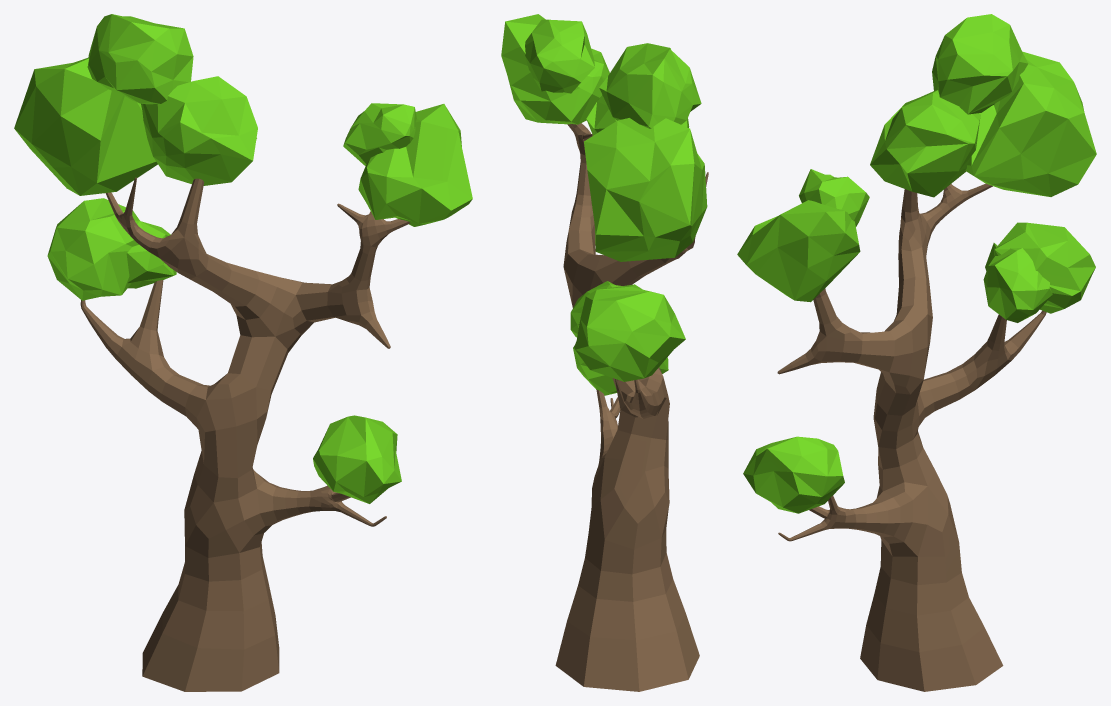
The model's file is Tree_test.fbx.
3 renders of one model, left to right at view 1: azimuth 30°, elevation 25°; view 2: azimuth 150°, elevation 25°; view 3: azimuth 270°, elevation 25°, orthographic. The views are drawn at different scales.
Visible parts, largest first — view 1: Tree_base, Tree_08.007, Tree_08.001, Tree_08.003, Tree_08.002, Tree_08.006, Branch1, Tree_08.005, Branch2, Branch3, Tree_08.004, Branch4 (+1 smaller); view 2: Tree_base, Tree_08.007, Tree_08.006, Tree_08.002, Tree_08.003, Tree_08.004, Branch2, Branch1, Branch3, Branch4, Tree_08.005, Tree_08.001 (+1 smaller); view 3: Tree_base, Tree_08.007, Tree_08.003, Tree_08.001, Tree_08.002, Tree_08.005, Tree_08.006, Branch1, Branch2, Branch3, Tree_08.008, Tree_08.004 (+1 smaller).
Boxes of the visible parts, bbox=[...] form: Tree_base: bbox=[142, 271, 313, 691]; Tree_08.007: bbox=[14, 57, 157, 195]; Tree_08.001: bbox=[141, 76, 257, 185]; Tree_08.003: bbox=[358, 104, 472, 226]; Tree_08.002: bbox=[87, 14, 193, 104]; Tree_08.006: bbox=[47, 198, 139, 300]; Branch1: bbox=[105, 177, 259, 306]; Tree_08.005: bbox=[313, 415, 401, 503]; Branch2: bbox=[296, 203, 410, 348]; Branch3: bbox=[80, 280, 203, 416]; Tree_08.004: bbox=[343, 103, 416, 165]; Branch4: bbox=[273, 485, 386, 526]; Tree_base: bbox=[555, 249, 699, 691]; Tree_08.007: bbox=[584, 118, 707, 261]; Tree_08.006: bbox=[574, 284, 685, 381]; Tree_08.002: bbox=[599, 43, 701, 128]; Tree_08.003: bbox=[501, 14, 609, 124]; Tree_08.004: bbox=[525, 19, 594, 93]; Branch2: bbox=[563, 123, 595, 265]; Branch1: bbox=[595, 172, 708, 285]; Branch3: bbox=[615, 378, 664, 418]; Branch4: bbox=[596, 389, 620, 461]; Tree_08.005: bbox=[573, 345, 668, 395]; Tree_08.001: bbox=[586, 95, 689, 135]; Tree_base: bbox=[860, 305, 1003, 691]; Tree_08.007: bbox=[965, 51, 1096, 196]; Tree_08.003: bbox=[737, 200, 860, 302]; Tree_08.001: bbox=[870, 90, 980, 197]; Tree_08.002: bbox=[932, 14, 1028, 114]; Tree_08.005: bbox=[743, 436, 844, 513]; Tree_08.006: bbox=[985, 222, 1095, 313]; Branch1: bbox=[896, 183, 992, 317]; Branch2: bbox=[777, 288, 894, 374]; Branch3: bbox=[923, 310, 1046, 410]; Tree_08.008: bbox=[983, 248, 1052, 322]; Tree_08.004: bbox=[799, 169, 869, 226].
Bounding box in the file's own units: 228 × 445 × 235.
